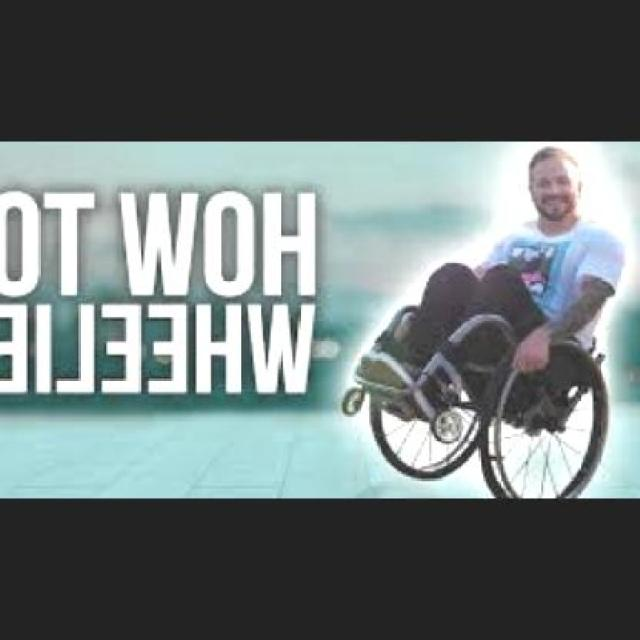wheelchairs: (334, 244, 615, 496)
